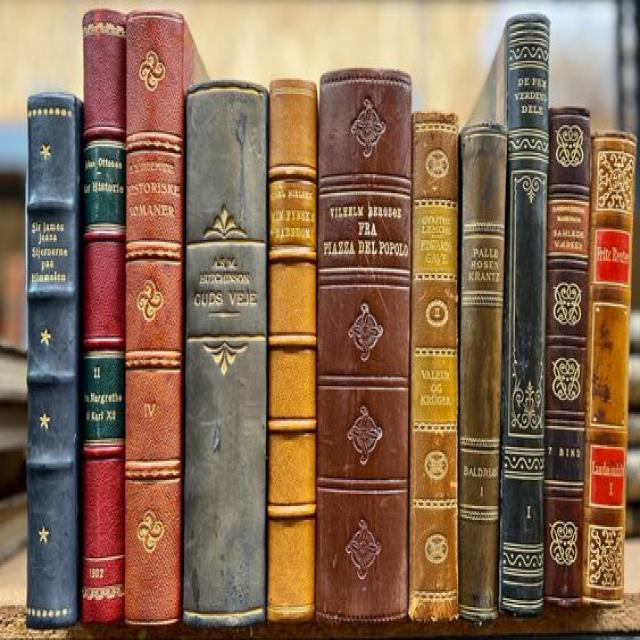book: (318, 71, 410, 619), (186, 87, 264, 621), (128, 12, 182, 622), (498, 17, 552, 610), (82, 15, 125, 619), (268, 80, 315, 620), (584, 130, 637, 603), (28, 95, 75, 625), (459, 128, 508, 619), (544, 107, 592, 605), (412, 111, 456, 622)
